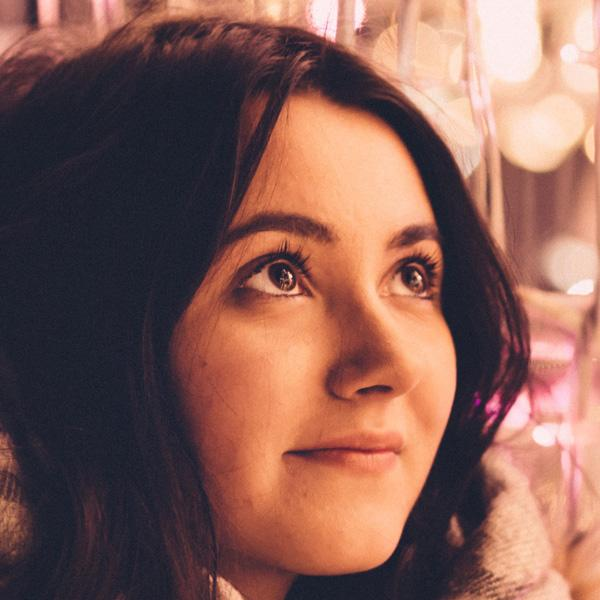Eyes: (222, 242, 326, 315), (373, 249, 446, 314)
